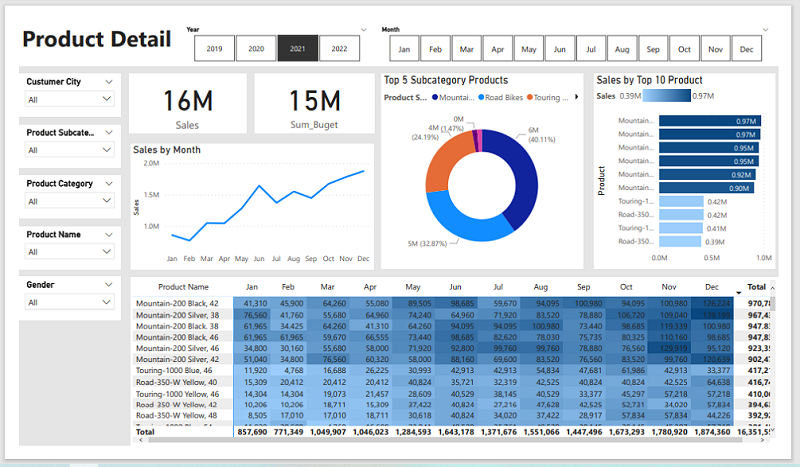

The page's visual inventory and layout, read from the dashboard file:
{"tool":"powerbi","page":{"name":"Product Detail","canvas":[1280,720],"ordinal":2},"visuals":[{"type":"textbox","box":[0,0,1280.5,77.6],"z":0},{"type":"slicer","fields":{"Values":["Dim_Custumer.Custumer City"]},"box":[0,91.8,170.8,72],"z":1000},{"type":"slicer","fields":{"Values":["Dim_Product.Product Subcategory"]},"box":[0,177.9,170.8,72],"z":2000},{"type":"slicer","fields":{"Values":["Dim_Product.Product Category"]},"box":[0,264,170.8,72],"z":3000},{"type":"slicer","fields":{"Values":["Dim_Product.Product Name"]},"box":[0,350.1,170.8,72],"z":4000},{"type":"slicer","fields":{"Values":["Dim_DateInformation.Year"]},"box":[269.6,5.6,328.9,72],"z":5000},{"type":"slicer","fields":{"Values":["Dim_DateInformation.MonthShort"]},"box":[598.6,5.6,677.6,72],"z":6000},{"type":"card","title":"Sales","fields":{"Values":["Measures Table.Sales"]},"box":[184.9,91.8,197.6,100.2],"z":7000},{"type":"card","fields":{"Values":["Measures Table.Sum_Buget"]},"box":[396.7,91.8,201.9,100.2],"z":8000},{"type":"lineChart","title":"Sales by Month","fields":{"Y":["Measures Table.Sales"],"Category":["Dim_DateInformation.MonthShort"]},"box":[188.1,210,409.9,211.7],"z":9000},{"type":"pivotTable","fields":{"Values":["Measures Table.Sales"],"Columns":["Dim_DateInformation.MonthShort"],"Rows":["Dim_Product.Product Name"]},"box":[187.8,436.2,1092.7,283.8],"z":10000},{"type":"barChart","title":"Sales by Top 10 Product","fields":{"Y":["Measures Table.Sales"],"Category":["Dim_Product.Product Name"]},"box":[969.9,91.8,306.4,330.4],"z":11000},{"type":"donutChart","title":"Top 5 Subcategory Products","fields":{"Category":["Dim_Product.Product Subcategory"],"Y":["Measures Table.Sales"]},"box":[611.3,91.8,340.2,330.4],"z":12000},{"type":"slicer","fields":{"Values":["Dim_Custumer.Gender"]},"box":[0,434.9,170.7,71.6],"z":13000}]}

Visuals, with their boxes on the page's 1280x720 design canvas (x1, y1, x2, y2). These are canvas units, not pixel positions in the 800x467 screenshot, which may show the page scaled, cropped or inside an application window:
textbox: (0, 0, 1280, 78)
slicer - Dim_Custumer.Custumer City: (0, 92, 171, 164)
slicer - Dim_Product.Product Subcategory: (0, 178, 171, 250)
slicer - Dim_Product.Product Category: (0, 264, 171, 336)
slicer - Dim_Product.Product Name: (0, 350, 171, 422)
slicer - Dim_DateInformation.Year: (270, 6, 598, 78)
slicer - Dim_DateInformation.MonthShort: (599, 6, 1276, 78)
"Sales" card: (185, 92, 382, 192)
card - Measures Table.Sum_Buget: (397, 92, 599, 192)
"Sales by Month" lineChart: (188, 210, 598, 422)
pivotTable - Measures Table.Sales x Dim_DateInformation.MonthShort: (188, 436, 1280, 720)
"Sales by Top 10 Product" barChart: (970, 92, 1276, 422)
"Top 5 Subcategory Products" donutChart: (611, 92, 952, 422)
slicer - Dim_Custumer.Gender: (0, 435, 171, 506)
